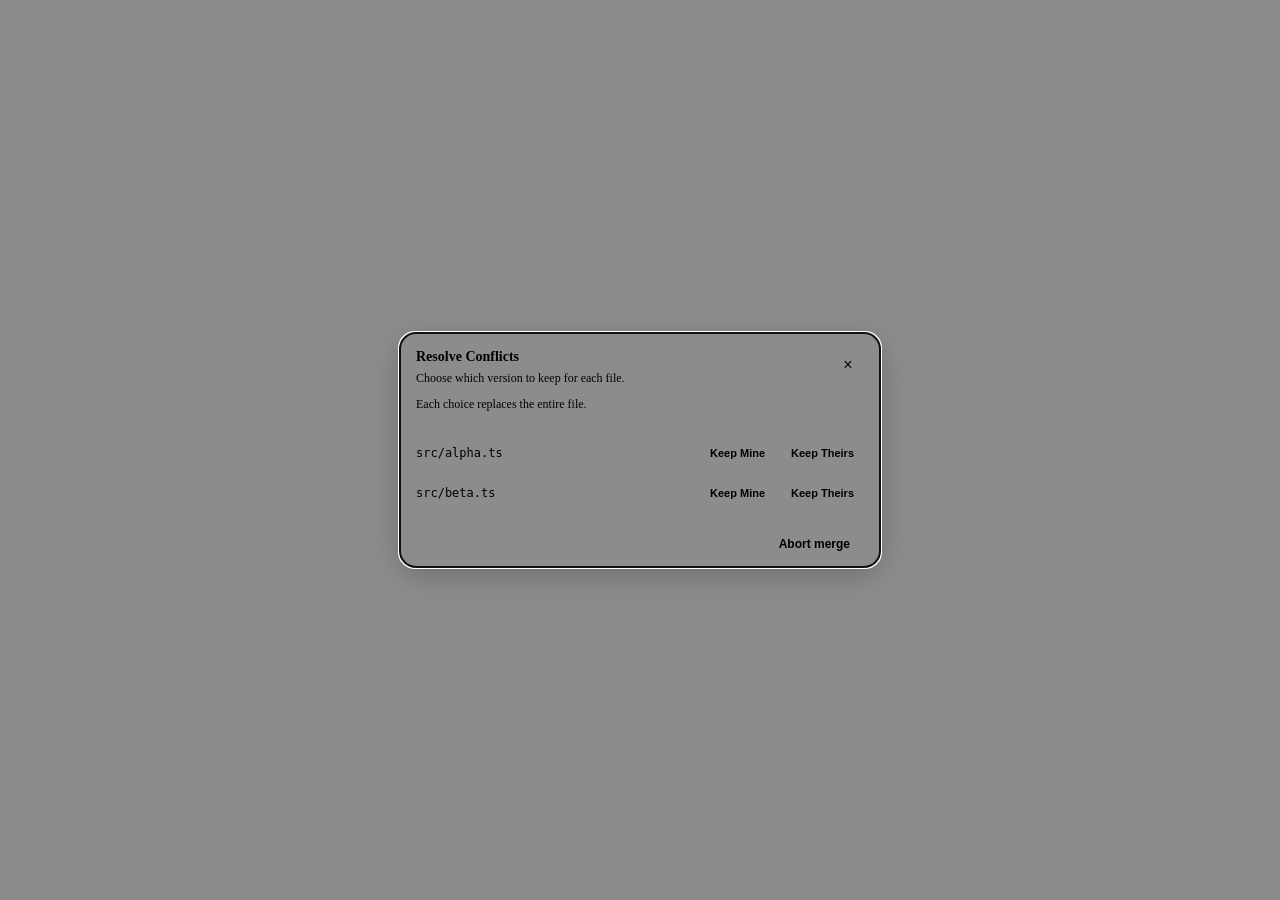
Test case: ConflictResolver › shows Resolved badge after a file is resolved
Click the button "Keep Mine" in the row of "src/alpha.ts": (738, 453) [700, 443, 775, 463]
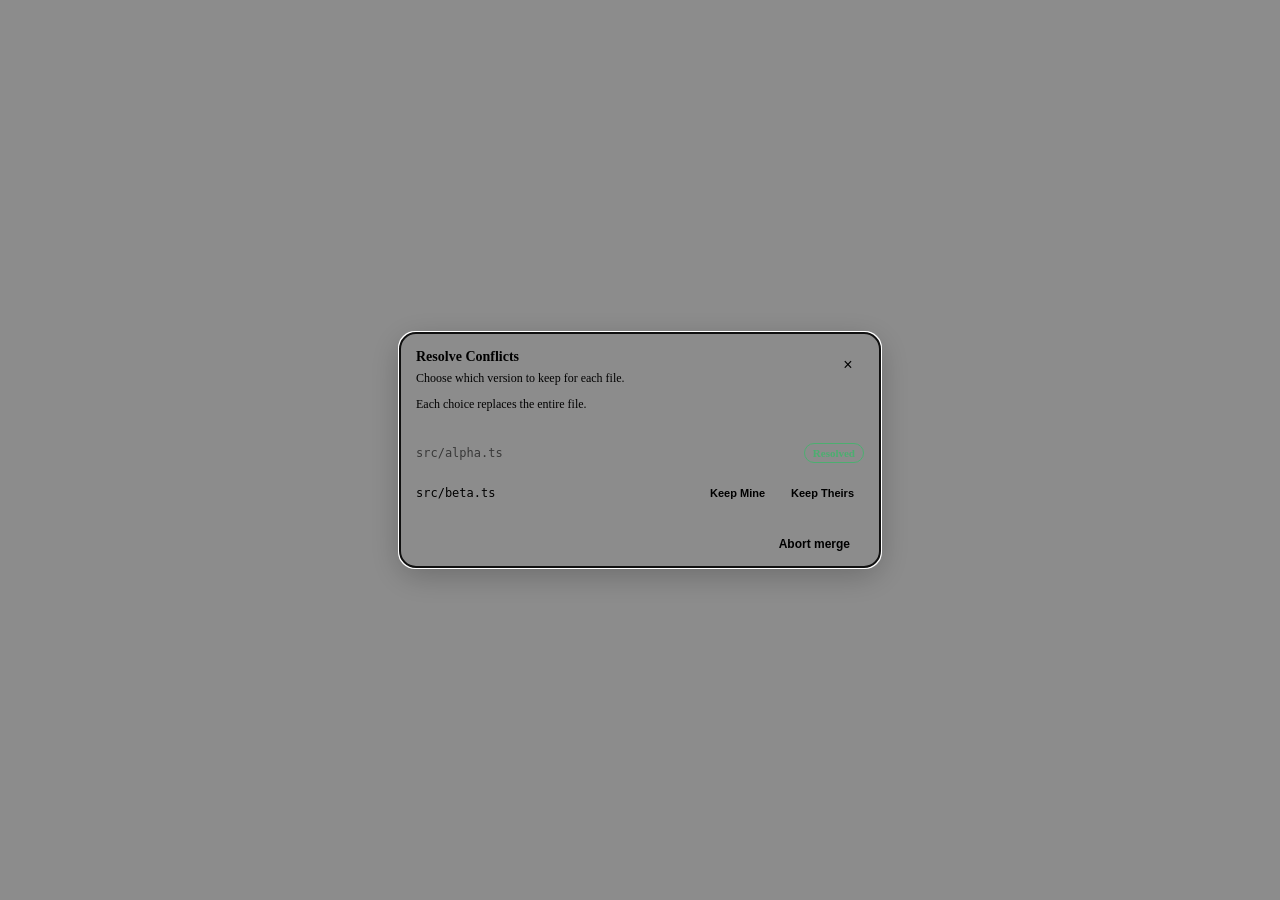
Expected: the number of buttons "Keep Mine" is 1, [700, 483, 775, 503]
Result: the text "Resolved" is shown at [804, 443, 864, 463]
